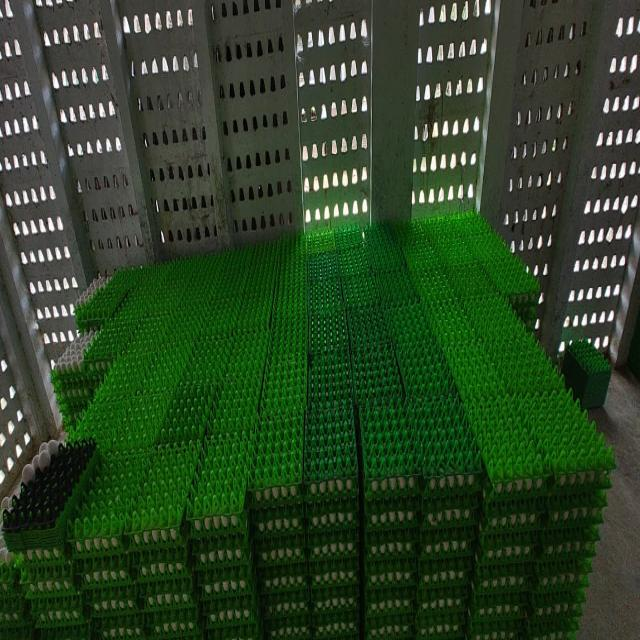egg_tray: (188, 427, 260, 636), (360, 401, 420, 636), (129, 442, 201, 635), (251, 413, 310, 633), (305, 405, 359, 632), (0, 537, 32, 636)
